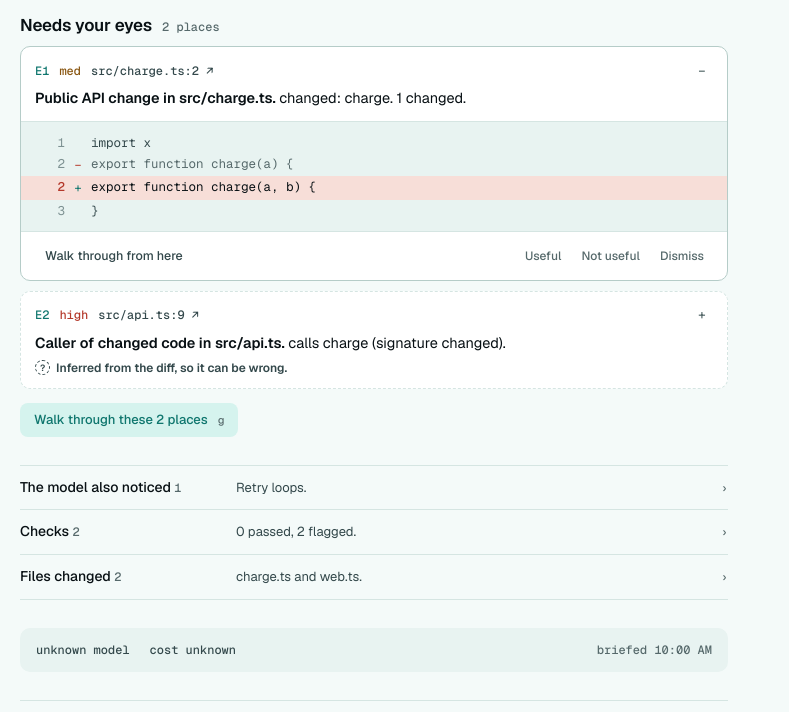
guided review › opens the first place with its code; another opens on +, and walks through from there
Expected: the element named "src/charge.ts, lines 1 to 3" is shown, [21,122,727,231]
Click the button named "Show the code for E2". click: (702, 315)
box: [691,304,713,326]
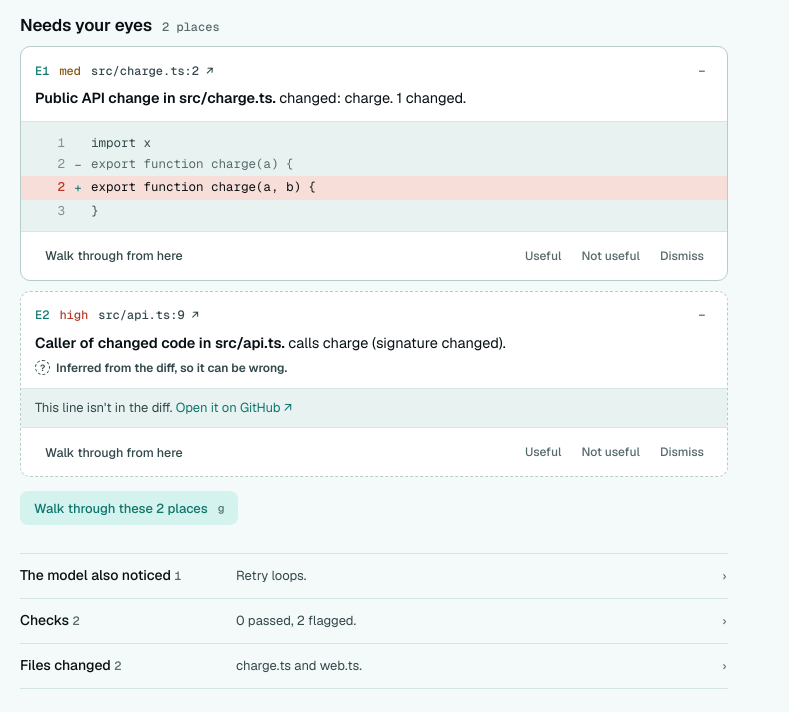
Now the text "This line isn't in the diff. Open it on GitHub ↗" is shown, box [21,388,727,427]
Click the button "Walk through from here" below "This line isn't in the diff.". click: (114, 452)
box: [35,438,193,466]
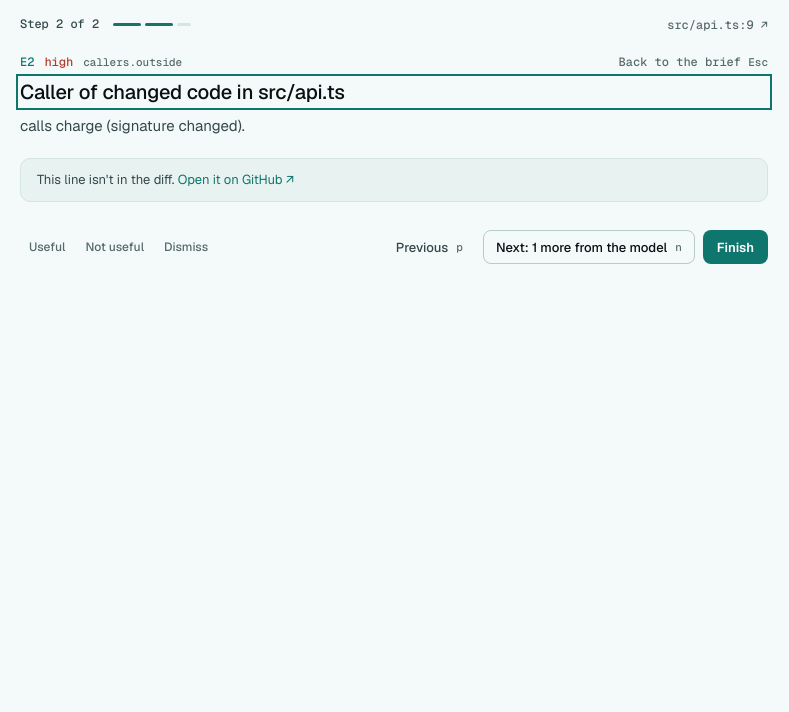
Expected: the text "E2" is shown, [20,54,34,70]
Now the text "Step 2 of 2" is shown, box [20,16,99,32]
